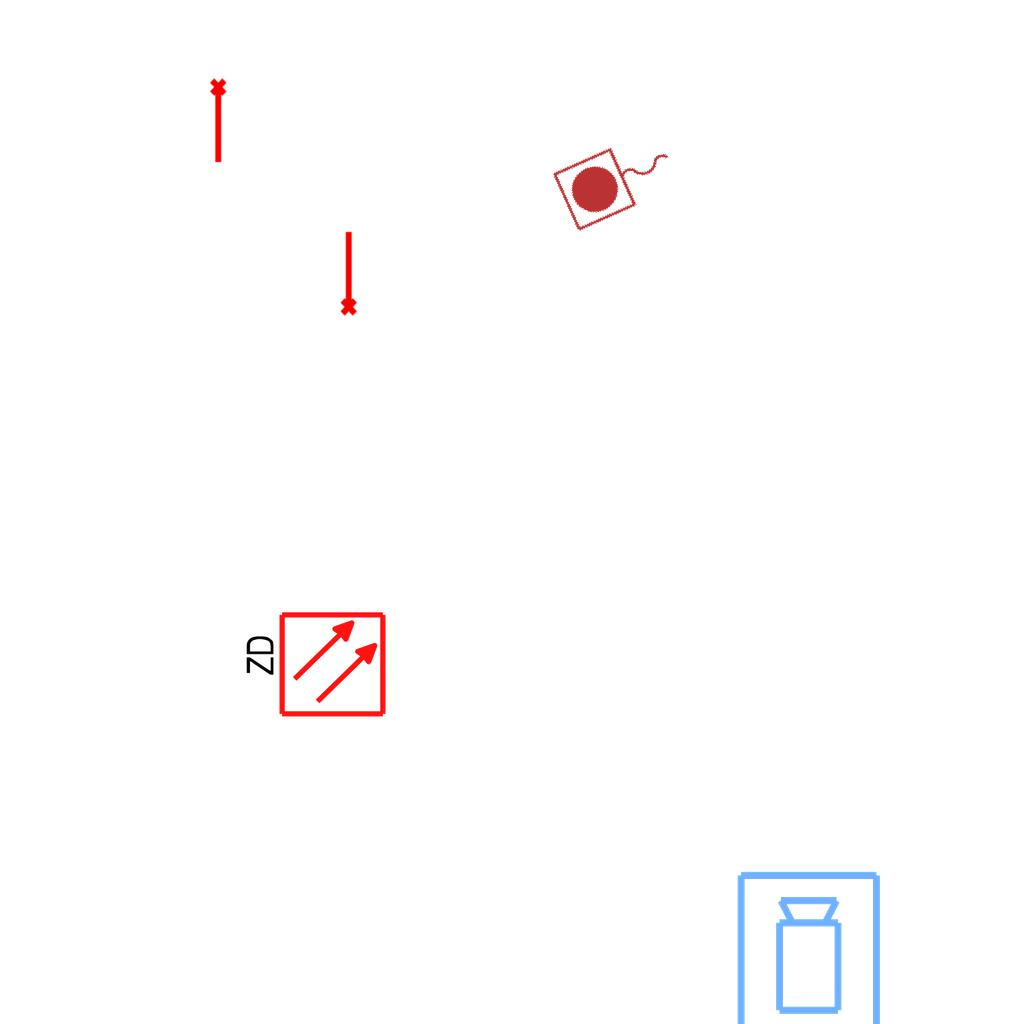ASR_Ansaugoeffnung: (208, 77, 231, 165), (336, 229, 359, 317)
KFO_Kamera_mit_Festobjektiv: (733, 868, 887, 1024)
ZD_Melder_in_Zwischendecke_mit_Revisionsoeffnung_mind_40_x_40_cm: (239, 609, 388, 723)
Zugtaster: (547, 122, 689, 238)
